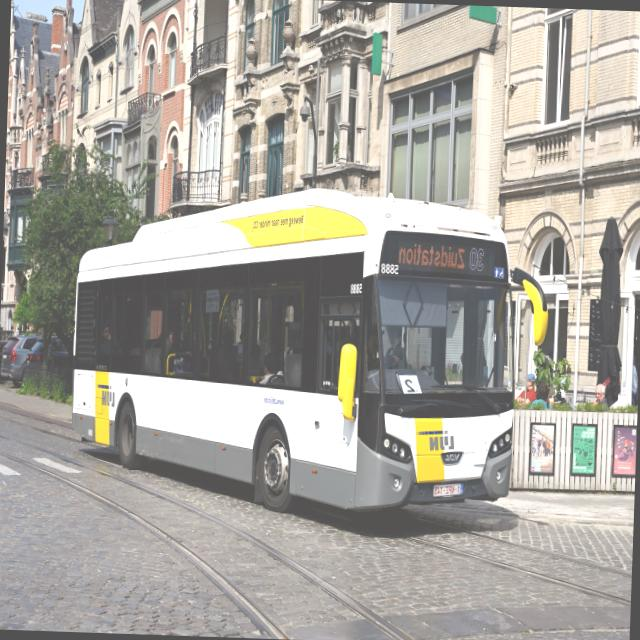bus-number: (468, 246, 484, 271)
